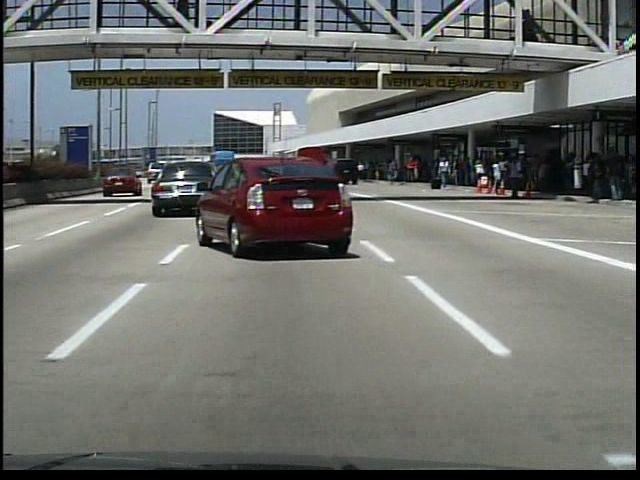person: (504, 152, 528, 204), (437, 157, 454, 193), (176, 1, 192, 31), (408, 158, 420, 185), (356, 163, 366, 182)
